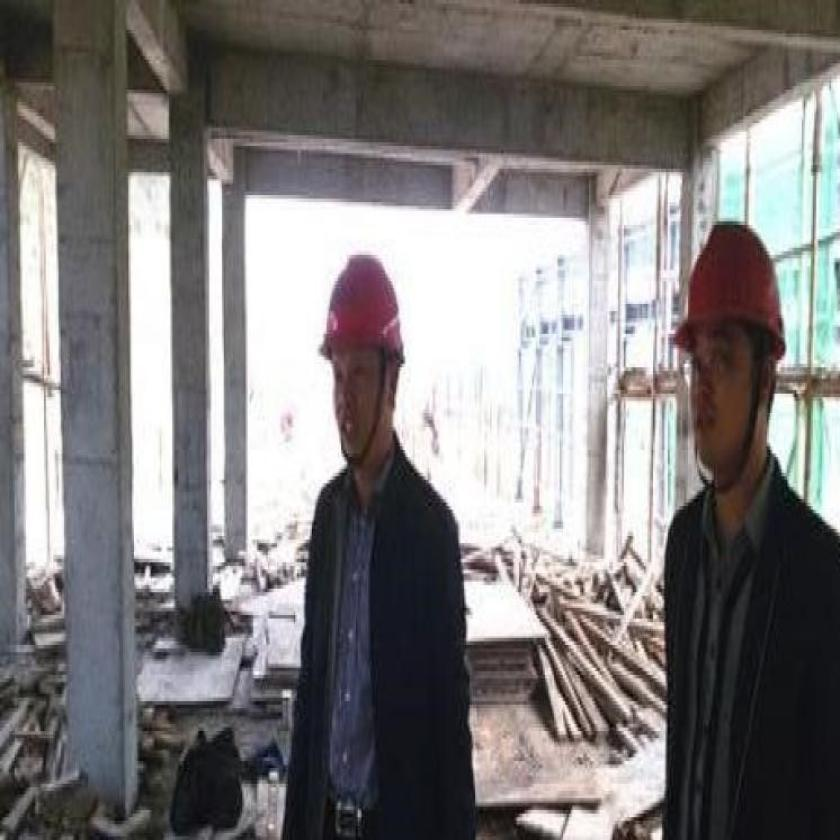Con_casco: (670, 211, 786, 506), (305, 246, 406, 492)
